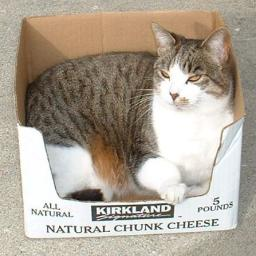catnose: (168, 91, 180, 101)
